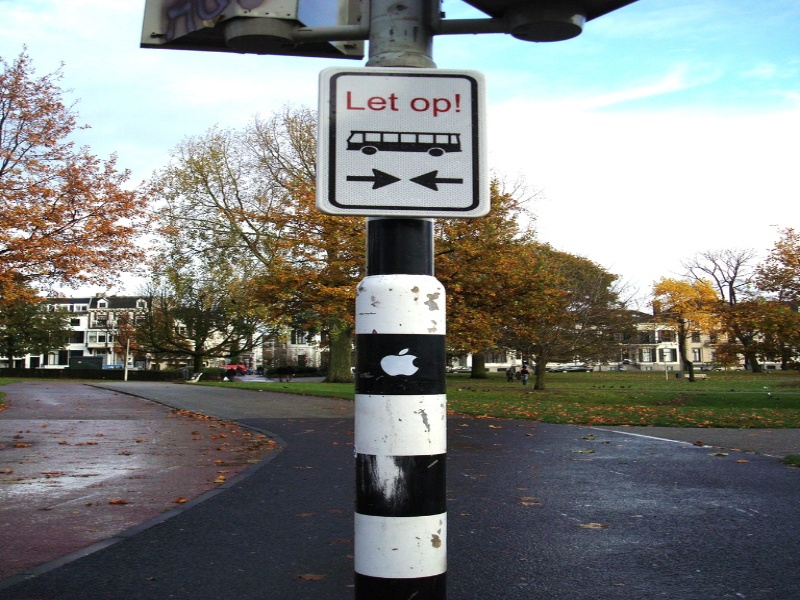left_direction: (408, 165, 466, 197)
right_direction: (345, 164, 404, 194)
